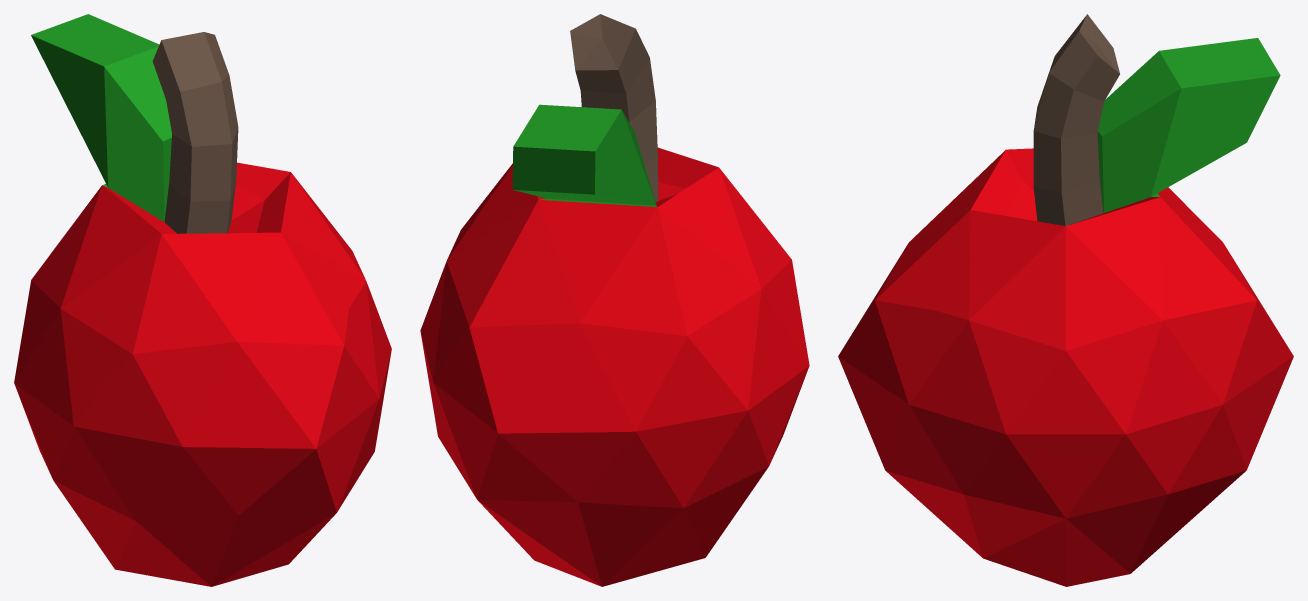
Rendered from Apple.fbx.
3 views of the same model, side by side, from view 1: azimuth 30°, elevation 25°; view 2: azimuth 150°, elevation 25°; view 3: azimuth 270°, elevation 25° (orthographic). The views are drawn at different scales.
Parts seen in each view (by area): view 1: Icosphere; view 2: Icosphere; view 3: Icosphere.
Boxes of the visible parts, <box> form: Icosphere: <box>14,14,391,586</box>; Icosphere: <box>420,14,809,586</box>; Icosphere: <box>838,14,1293,586</box>.
Bounding box in the file's own units: 190 × 300 × 235.
